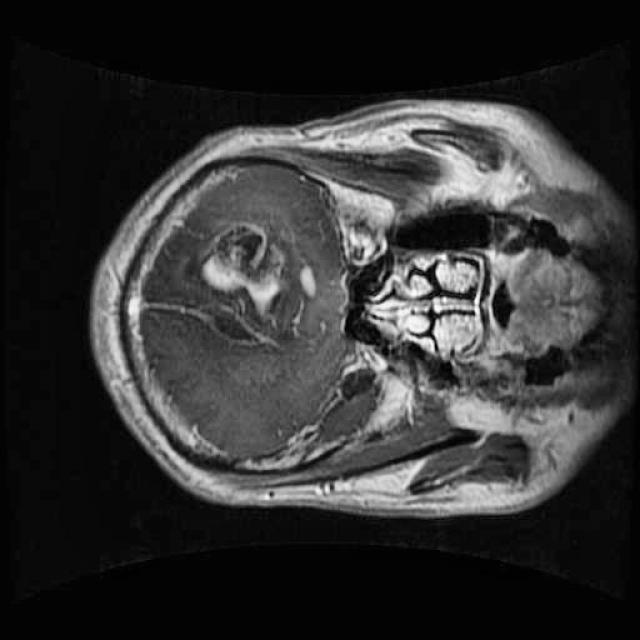Tumor: (184, 206, 324, 335)
